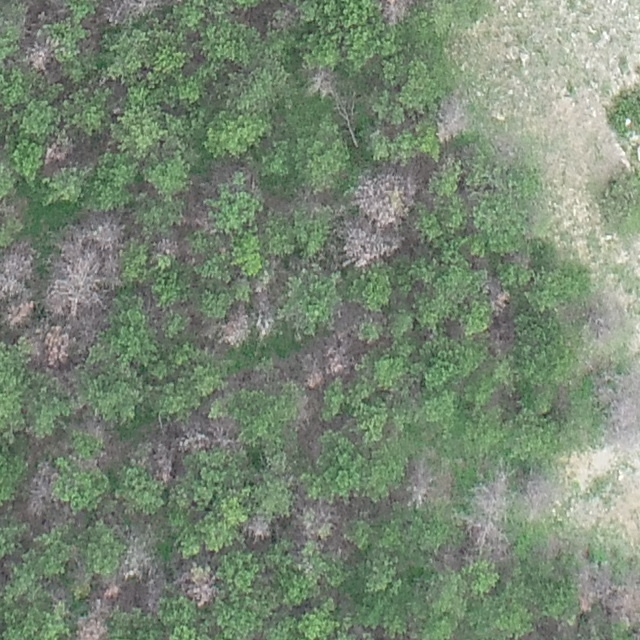unhealthy: (45, 213, 125, 318), (351, 162, 417, 225), (597, 369, 638, 449), (585, 284, 630, 340), (402, 458, 446, 505), (21, 464, 57, 520), (605, 568, 639, 627), (0, 239, 37, 293), (465, 516, 510, 559), (340, 220, 380, 268), (176, 564, 219, 607), (434, 90, 469, 142), (520, 471, 559, 516), (470, 474, 510, 516), (569, 565, 604, 612), (140, 437, 175, 483), (115, 537, 153, 574), (41, 323, 71, 369), (95, 0, 151, 24), (221, 304, 251, 347), (204, 417, 240, 450), (302, 348, 328, 391), (41, 133, 74, 166), (487, 320, 517, 355), (0, 194, 30, 228), (308, 66, 339, 98), (431, 543, 464, 573), (74, 612, 110, 639), (3, 299, 36, 328), (174, 426, 209, 453), (484, 280, 511, 315), (143, 572, 167, 611), (378, 0, 414, 26), (253, 306, 278, 340), (243, 513, 273, 541), (25, 43, 53, 72), (99, 582, 125, 609), (325, 348, 350, 376), (539, 532, 564, 559), (154, 235, 181, 256)
